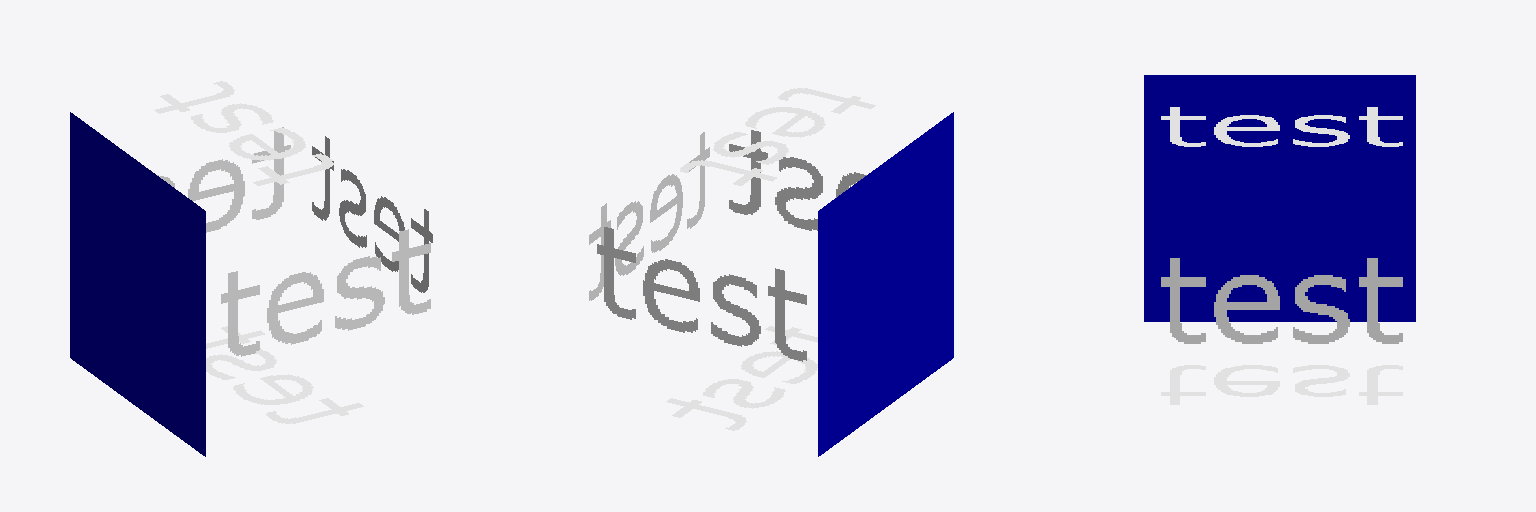
3 renders of one model, left to right at view 1: azimuth 30°, elevation 25°; view 2: azimuth 150°, elevation 25°; view 3: azimuth 270°, elevation 25°, orthographic.
Parts seen in each view (by area): view 1: Cube; view 2: Cube; view 3: Cube.
Part boxes in pixels (x1,y1,x2,y2): Cube: (70,81,432,456); Cube: (589,88,953,456); Cube: (1144,75,1415,404).
Size of the model in its own units: 2 by 2 by 2.
Materials: 2 (1 with a texture image).